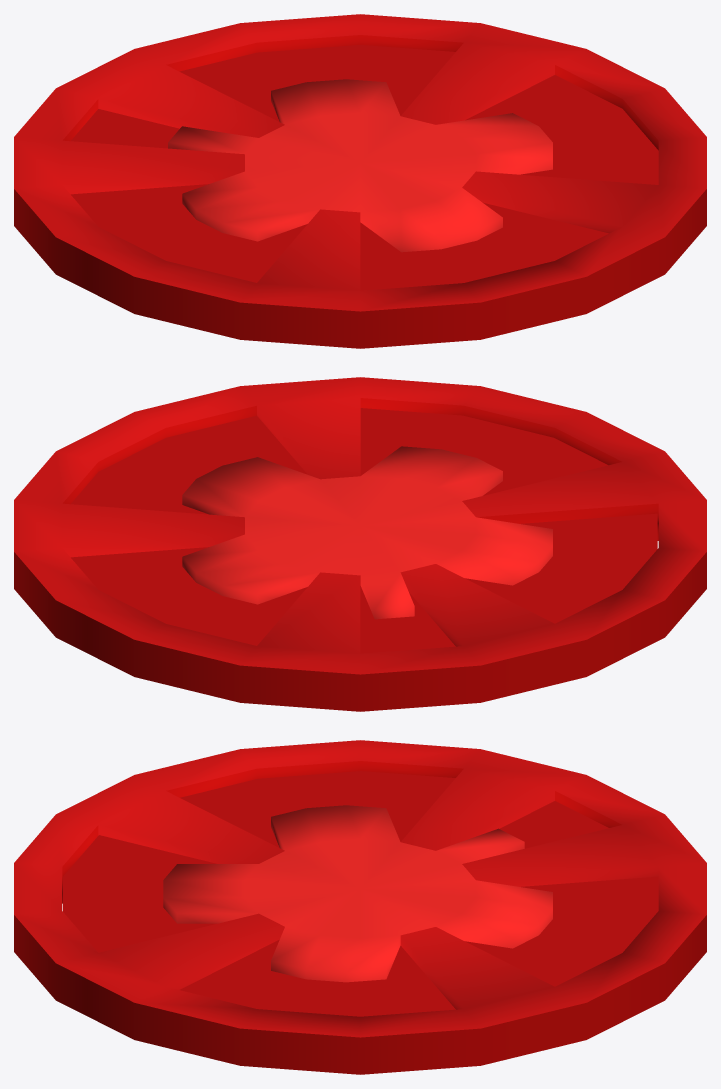
Rendered from Tomato_slice.FBX.
The picture shows the model from 3 angles, top to bottom: view 1: azimuth 30°, elevation 25°; view 2: azimuth 150°, elevation 25°; view 3: azimuth 270°, elevation 25°; orthographic projection.
Parts seen in each view (by area): view 1: Cylinder001; view 2: Cylinder001; view 3: Cylinder001.
Part boxes in pixels (left/top/right/bottom): Cylinder001: left=14, top=14, right=706, bottom=348; Cylinder001: left=14, top=377, right=706, bottom=711; Cylinder001: left=14, top=740, right=706, bottom=1074.
Bounding box in the file's own units: 86.02 × 5.03 × 84.71.
